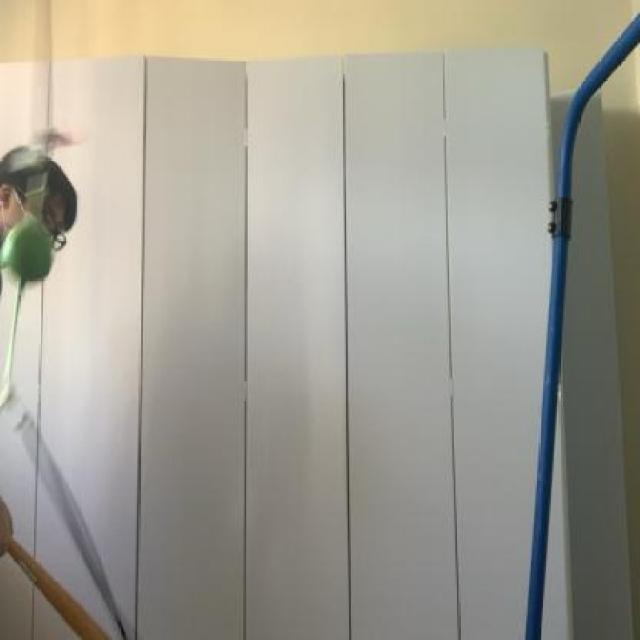baseball: (0, 210, 54, 288)
